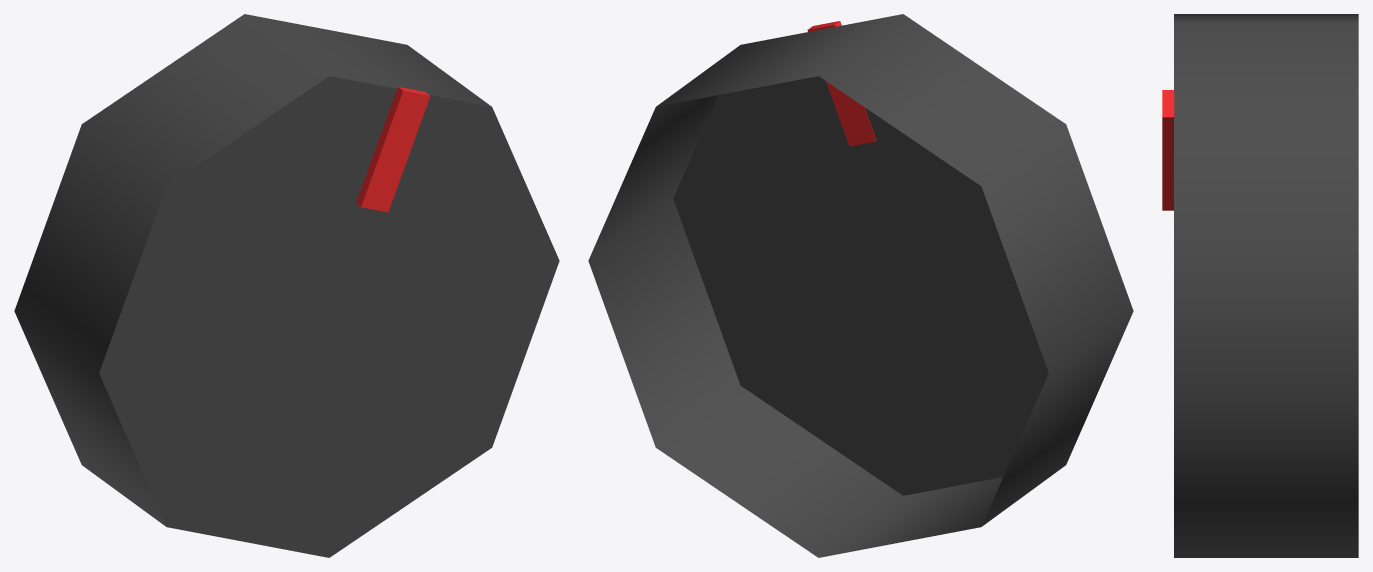
File: Itr_Obj_Microwave_Controller_01.FBX
3 views of the same model, side by side, from view 1: azimuth 30°, elevation 25°; view 2: azimuth 150°, elevation 25°; view 3: azimuth 270°, elevation 25° (orthographic). The views are drawn at different scales.
Visible parts, largest first — view 1: Itr_Obj_Microwave_Controller_01; view 2: Itr_Obj_Microwave_Controller_01; view 3: Itr_Obj_Microwave_Controller_01.
Part boxes in pixels (x1=…): Itr_Obj_Microwave_Controller_01: x1=14, y1=14, x2=559, y2=557; Itr_Obj_Microwave_Controller_01: x1=588, y1=14, x2=1133, y2=557; Itr_Obj_Microwave_Controller_01: x1=1162, y1=14, x2=1358, y2=557.
Size of the model in its own units: 2.32 by 2.32 by 0.7868.
